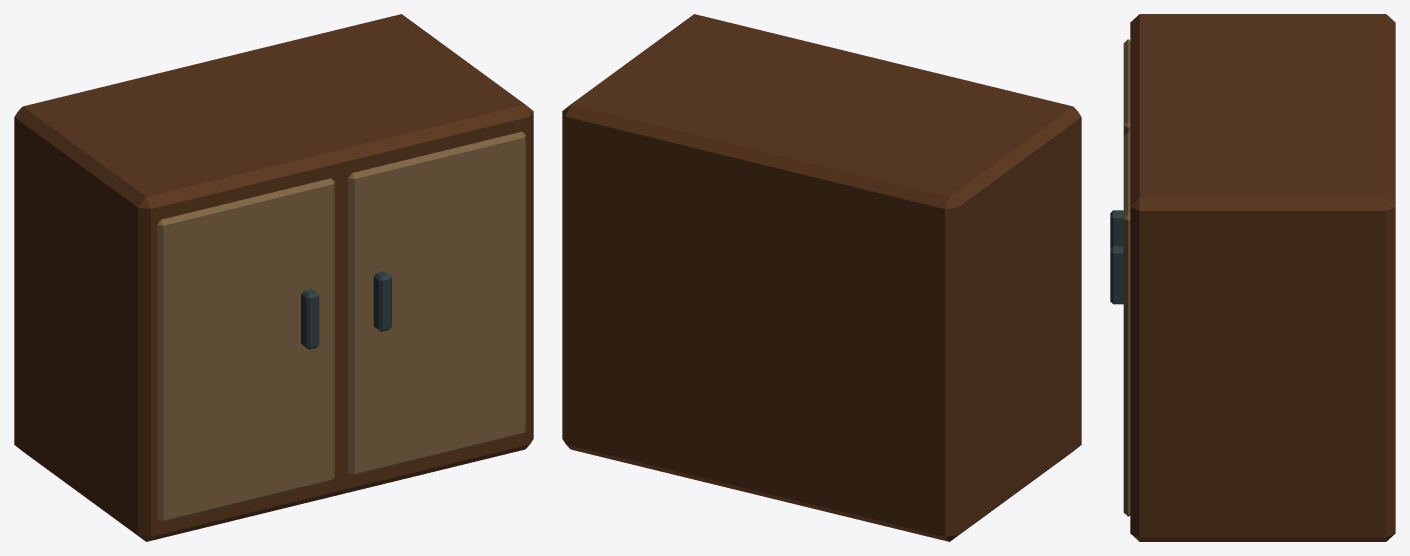
The model's file is cabinet.glb.
The picture shows the model from 3 angles, left to right: view 1: azimuth 30°, elevation 25°; view 2: azimuth 150°, elevation 25°; view 3: azimuth 270°, elevation 25°; orthographic projection.
Visible parts, largest first — view 1: DD_Cabinet, DD_Cabinet_Panel.001, DD_Cabinet_Panel, DD_Cabinet_Pull.001, DD_Cabinet_Pull; view 2: DD_Cabinet; view 3: DD_Cabinet, DD_Cabinet_Panel.001, DD_Cabinet_Pull.001, DD_Cabinet_Panel, DD_Cabinet_Pull.
Part boxes in pixels (x1=…): DD_Cabinet: x1=14, y1=14, x2=533, y2=541; DD_Cabinet_Panel.001: x1=348, y1=131, x2=525, y2=476; DD_Cabinet_Panel: x1=157, y1=178, x2=334, y2=523; DD_Cabinet_Pull.001: x1=373, y1=271, x2=391, y2=331; DD_Cabinet_Pull: x1=301, y1=289, x2=319, y2=349; DD_Cabinet: x1=562, y1=14, x2=1081, y2=541; DD_Cabinet: x1=1130, y1=14, x2=1395, y2=541; DD_Cabinet_Panel.001: x1=1123, y1=132, x2=1130, y2=516; DD_Cabinet_Pull.001: x1=1110, y1=245, x2=1123, y2=304; DD_Cabinet_Panel: x1=1123, y1=39, x2=1130, y2=135; DD_Cabinet_Pull: x1=1110, y1=210, x2=1123, y2=247.
Bounding box in the file's own units: 1.2 × 1 × 0.7525.
